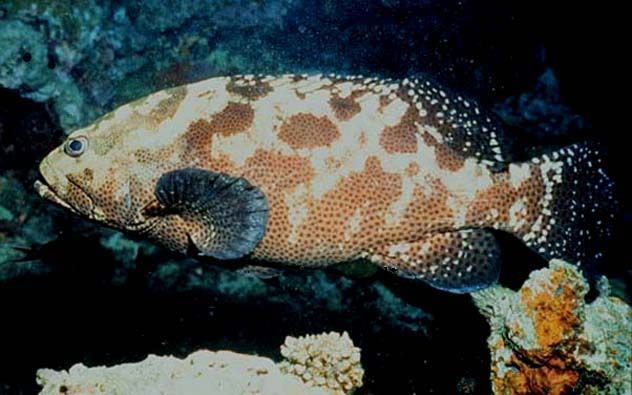fish: (33, 72, 616, 295)
